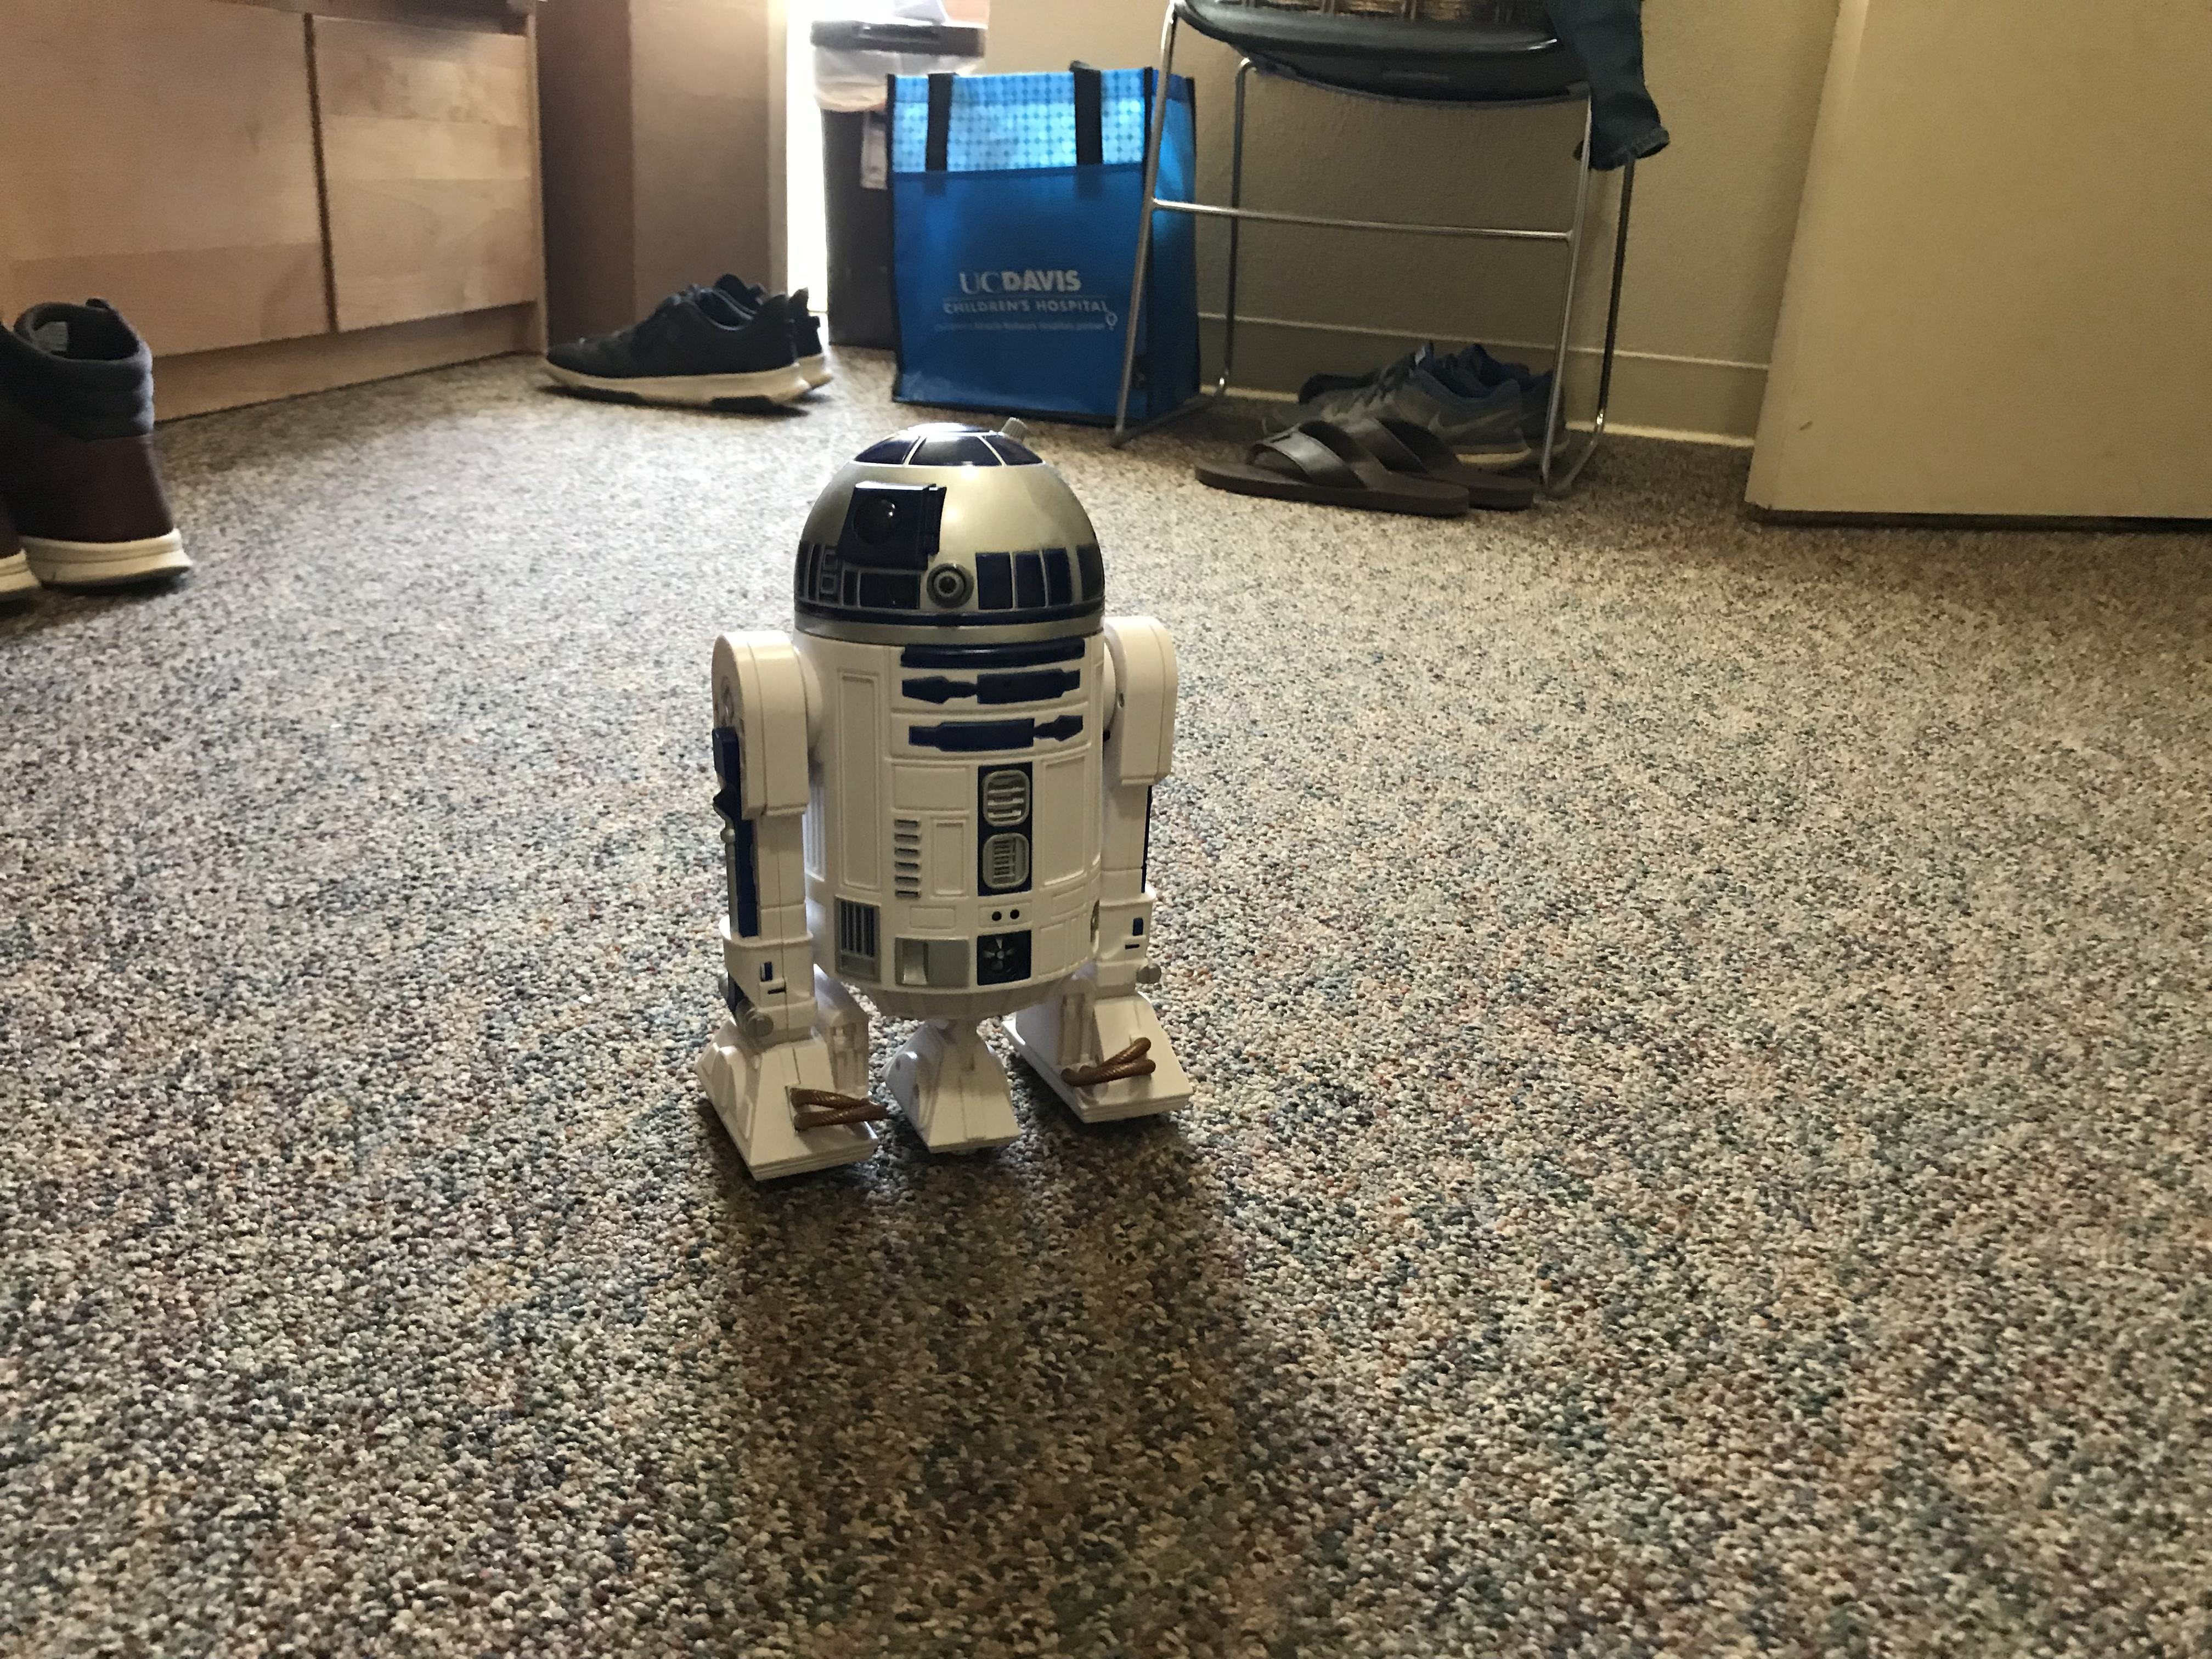r2d2: (711, 418, 1195, 1175)
